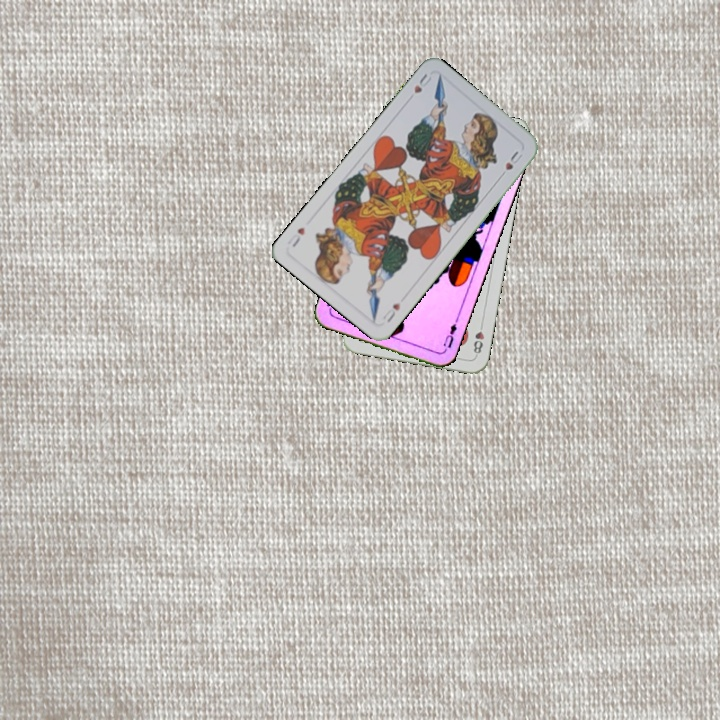EU: (439, 316, 460, 355)
H8: (469, 318, 487, 359)
HU: (378, 298, 403, 325), (410, 69, 434, 96)
